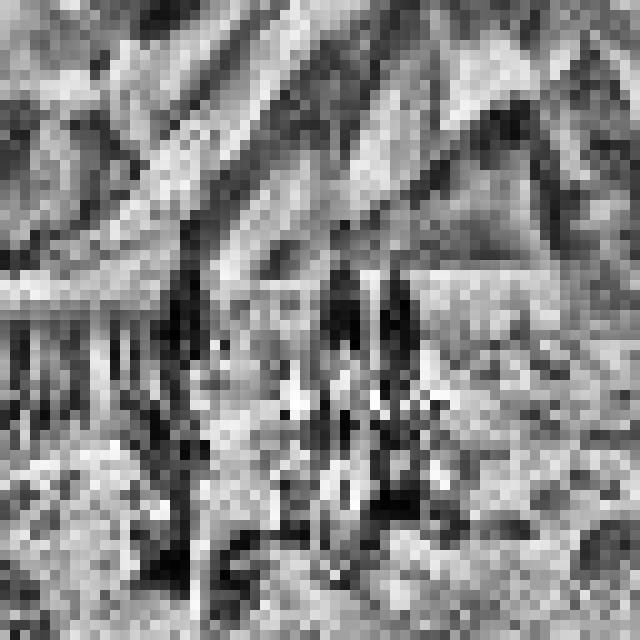mopeds: (114, 347, 248, 630), (265, 338, 382, 589), (376, 325, 477, 561)
